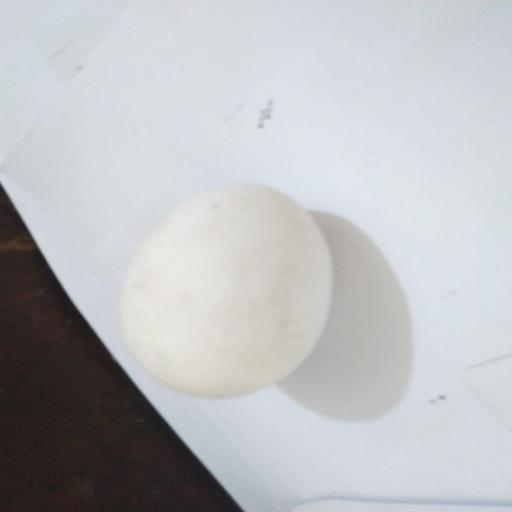telur: (108, 172, 334, 408)
